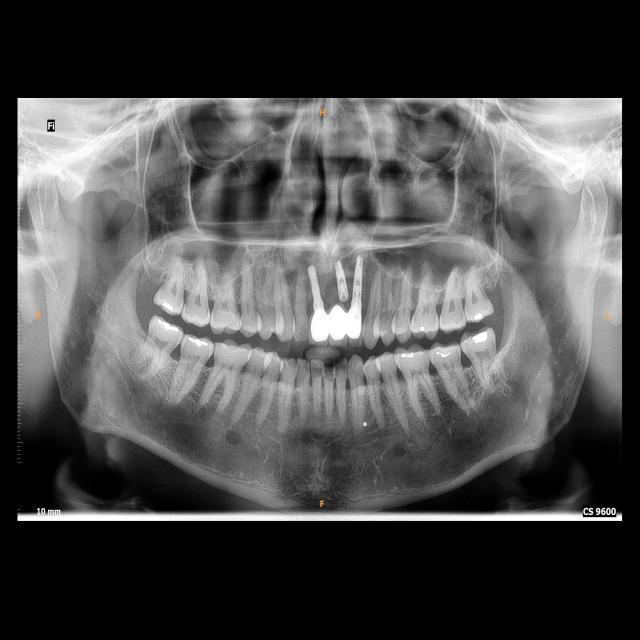dolgu: (151, 316, 183, 338), (183, 334, 212, 353), (433, 341, 455, 364), (468, 329, 489, 350), (468, 304, 488, 323), (398, 346, 418, 364)
implant: (302, 256, 328, 343), (346, 256, 368, 336), (331, 250, 348, 339)
